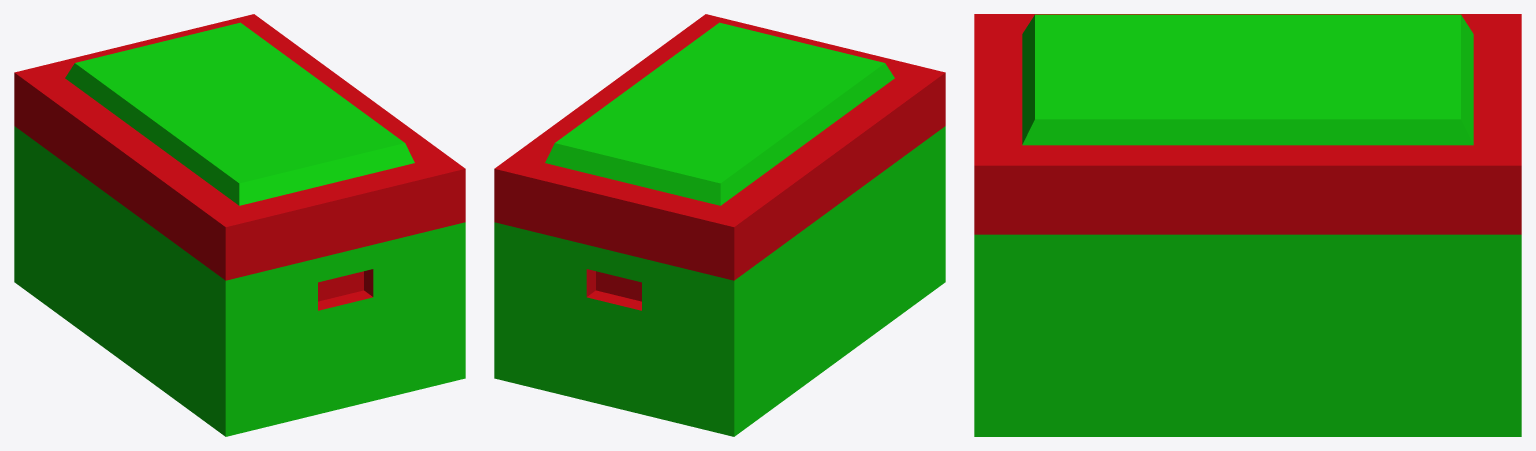
Rendered from Crate.fbx.
3 views of the same model, side by side, from view 1: azimuth 30°, elevation 25°; view 2: azimuth 150°, elevation 25°; view 3: azimuth 270°, elevation 25° (orthographic). The views are drawn at different scales.
Visible parts, largest first — view 1: Cube; view 2: Cube; view 3: Cube.
Boxes of the visible parts, x1,y1,x2,y2 form: Cube: (14, 14, 465, 436); Cube: (494, 14, 945, 436); Cube: (974, 14, 1521, 436).
Size of the model in its own units: 40.65 by 36.82 by 62.08.
